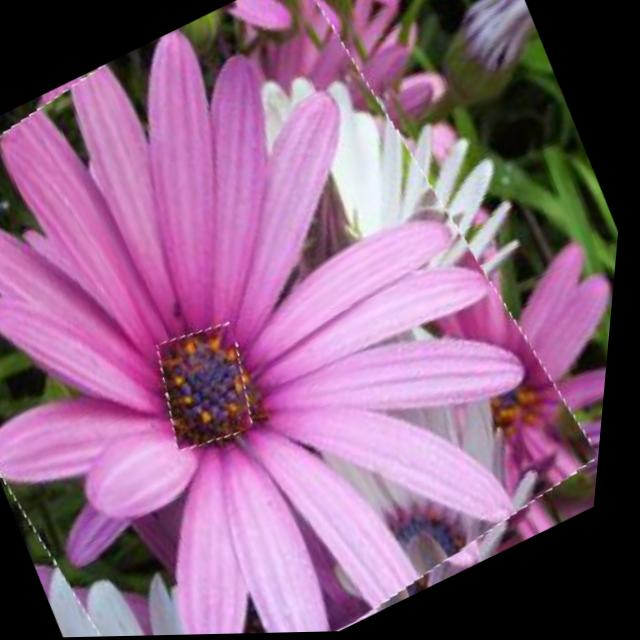Flower: (144, 316, 279, 458)
